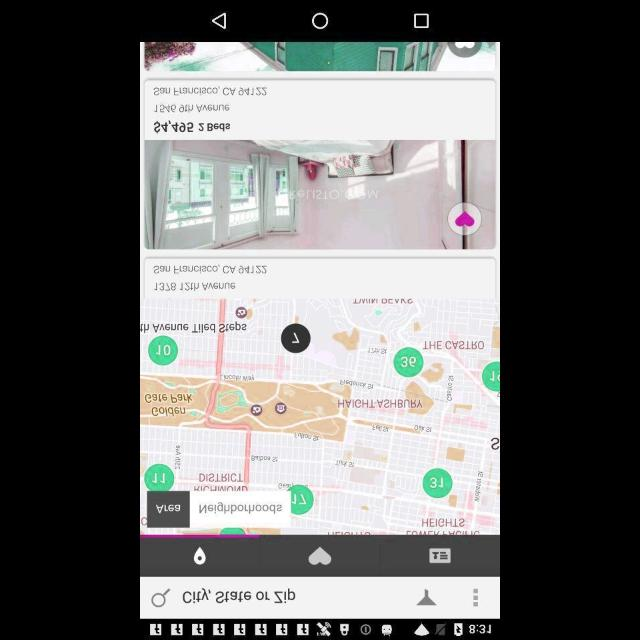icon: (449, 203, 481, 234), (307, 547, 331, 565), (414, 588, 438, 606), (428, 548, 452, 564), (151, 588, 171, 606), (312, 12, 328, 30), (192, 546, 206, 566), (212, 10, 226, 30), (413, 13, 429, 29), (472, 588, 480, 608)
image: (145, 139, 497, 247), (144, 43, 498, 73)
map: (142, 296, 498, 534)
multitab: (140, 536, 500, 576)
panel: (140, 1, 500, 41)
text: (180, 588, 298, 608), (151, 263, 269, 277), (151, 84, 269, 98), (153, 278, 239, 294), (152, 120, 232, 134), (152, 103, 232, 117)
toolbar: (140, 578, 500, 618)
uppertaskbar: (140, 620, 500, 640)
